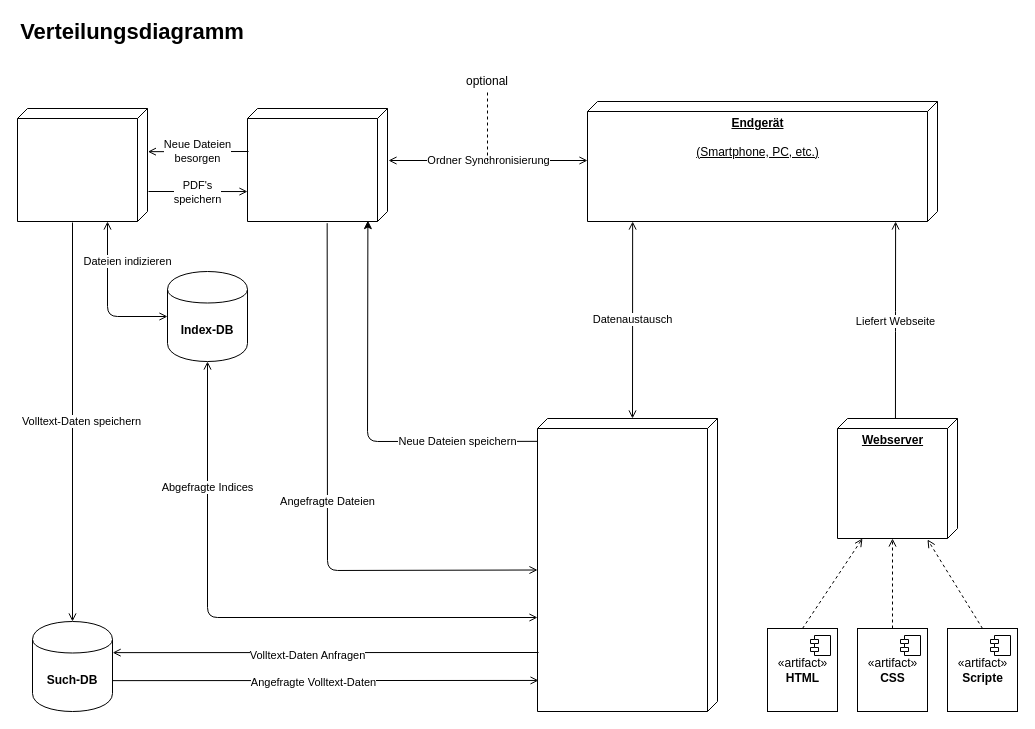
Image size: 1035x729. Some labels were removed from this diagram. Here are the shapes that lost their labels. From the top down, the centre of each, then its label:
At point 82,165: "Analyse-Server".
At point 317,165: "Cloud-Speicher (Nextcloud o.ä.)".
At point 627,565: "Apollo Server (GraphQL)".
